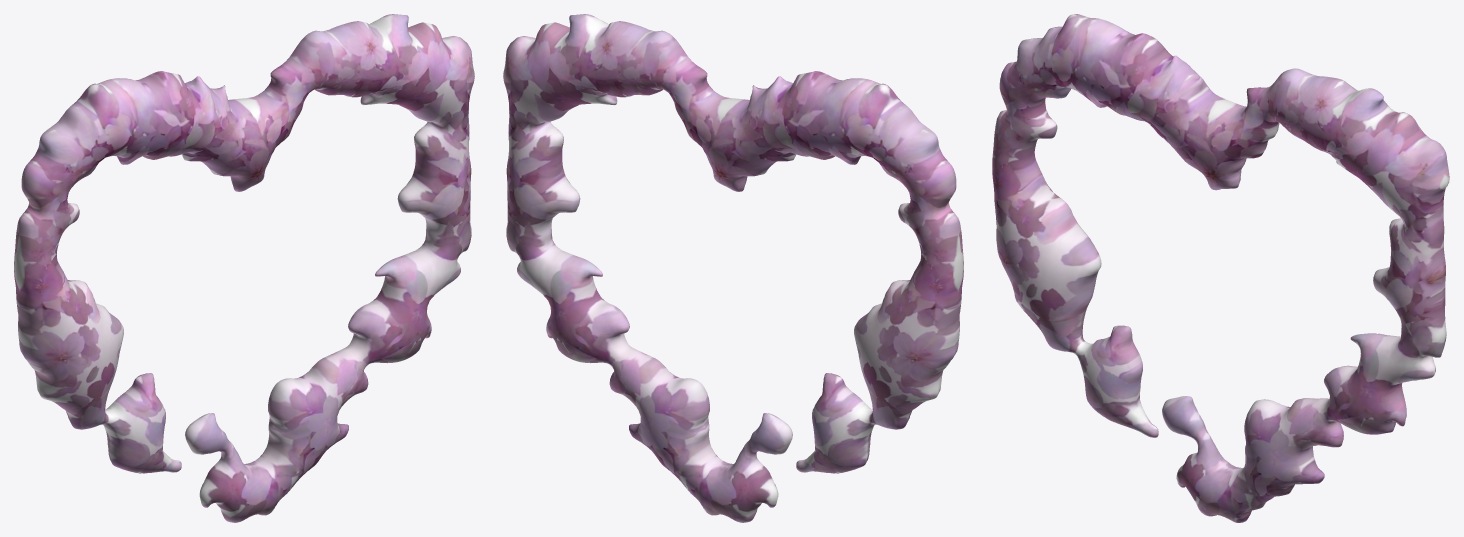
File: petals.glb
The picture shows the model from 3 angles, left to right: view 1: azimuth 30°, elevation 25°; view 2: azimuth 150°, elevation 25°; view 3: azimuth 330°, elevation 25°; orthographic projection.
Size of the model in its own units: 6.11 by 6.04 by 0.9555.
Materials: 1 (1 with a texture image).
